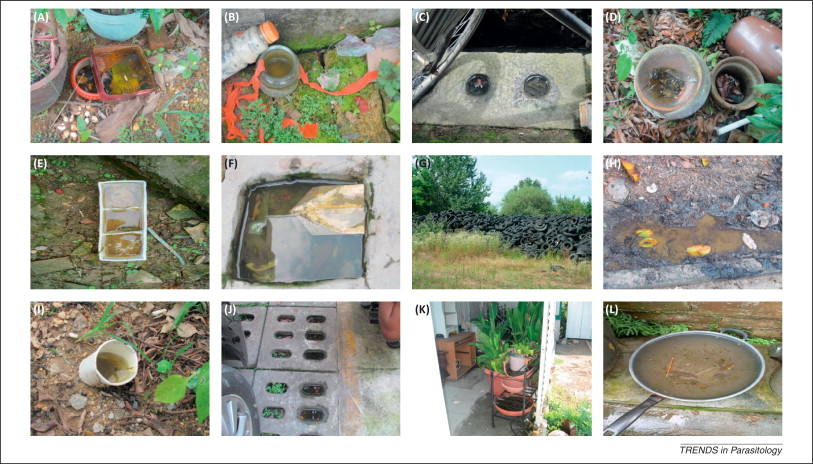container: (625, 34, 713, 116), (708, 54, 767, 113)
tire: (540, 241, 552, 253), (563, 238, 574, 250), (500, 234, 510, 243), (445, 208, 452, 215)
tirepile: (412, 196, 591, 267)
water: (247, 184, 365, 284), (623, 213, 784, 258), (646, 337, 746, 398), (99, 182, 144, 261), (104, 55, 148, 92), (97, 349, 134, 384), (500, 393, 529, 412), (267, 58, 293, 79), (526, 77, 547, 97), (470, 76, 489, 95)
